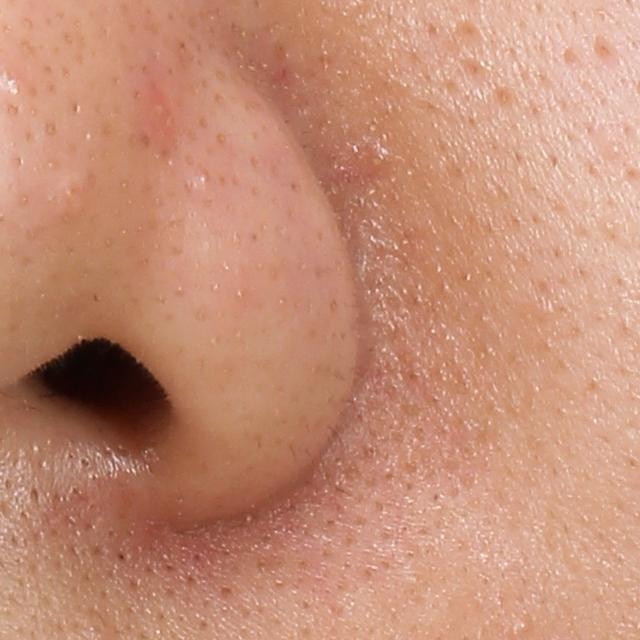atrophic_scar: (594, 33, 619, 66)
comedo: (603, 136, 628, 160), (511, 613, 532, 639)
